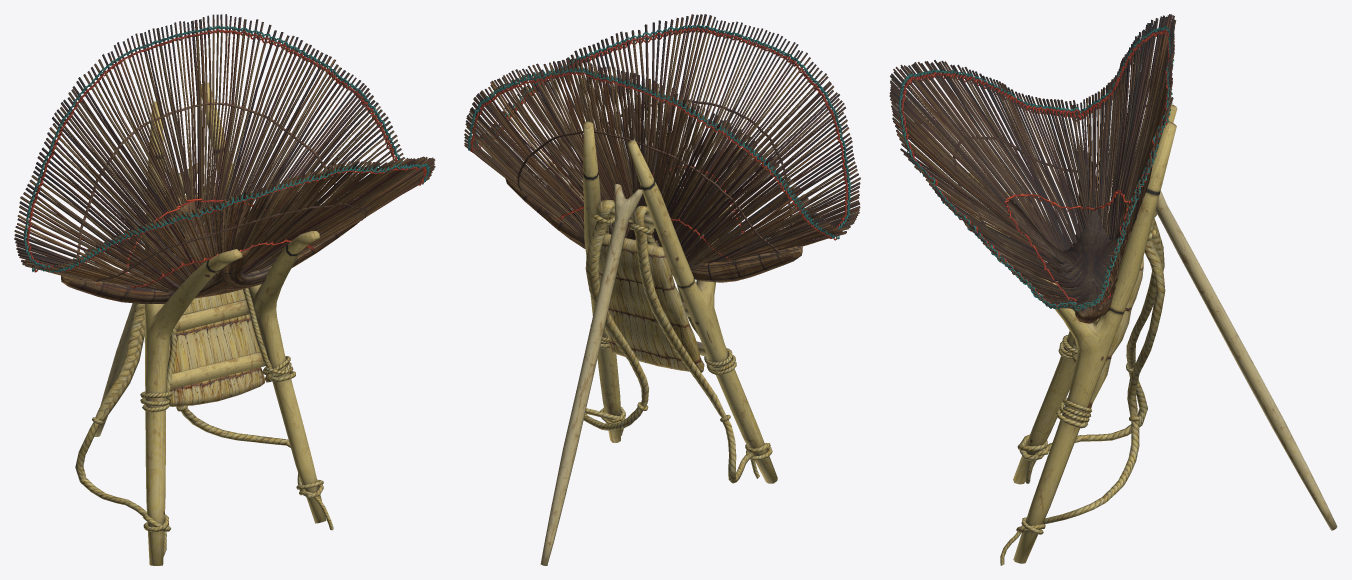
The model's file is SM_FrameCarrier.fbx.
3 renders of one model, left to right at view 1: azimuth 30°, elevation 25°; view 2: azimuth 150°, elevation 25°; view 3: azimuth 270°, elevation 25°, orthographic. The views are drawn at different scales.
Visible parts, largest first — view 1: SM_FrameCarrier_LOD0; view 2: SM_FrameCarrier_LOD0; view 3: SM_FrameCarrier_LOD0.
Boxes of the visible parts, <box> form: SM_FrameCarrier_LOD0: <box>14,14,435,565</box>; SM_FrameCarrier_LOD0: <box>464,14,860,565</box>; SM_FrameCarrier_LOD0: <box>889,14,1337,565</box>.
Size of the model in its own units: 212 by 239 by 197.
2 materials, 2 textured.
